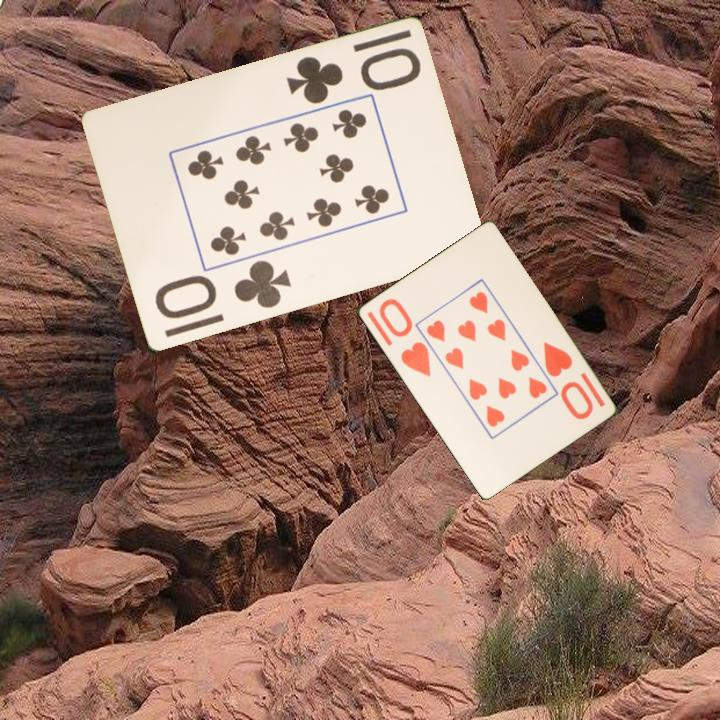10c: (151, 257, 294, 323), (282, 44, 424, 108)
10h: (375, 295, 433, 380), (539, 338, 596, 423)
